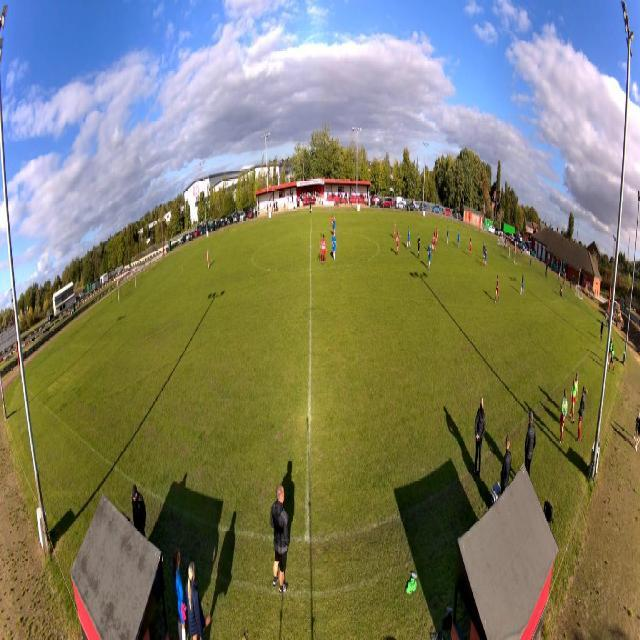player: (320, 233, 327, 267), (494, 275, 500, 305), (396, 230, 402, 257), (332, 230, 337, 262), (406, 224, 411, 250), (432, 231, 437, 257), (519, 273, 524, 298), (428, 242, 432, 271), (417, 232, 421, 260), (331, 213, 335, 237), (482, 249, 486, 269), (485, 245, 488, 269), (507, 245, 511, 263), (333, 215, 336, 237), (207, 248, 210, 270), (394, 219, 397, 240), (434, 231, 437, 252), (436, 226, 439, 247), (469, 238, 472, 259), (446, 225, 449, 245), (458, 230, 461, 250), (457, 228, 459, 243), (482, 242, 485, 252)
